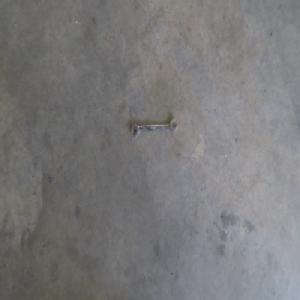Wrench: (131, 118, 178, 137)
